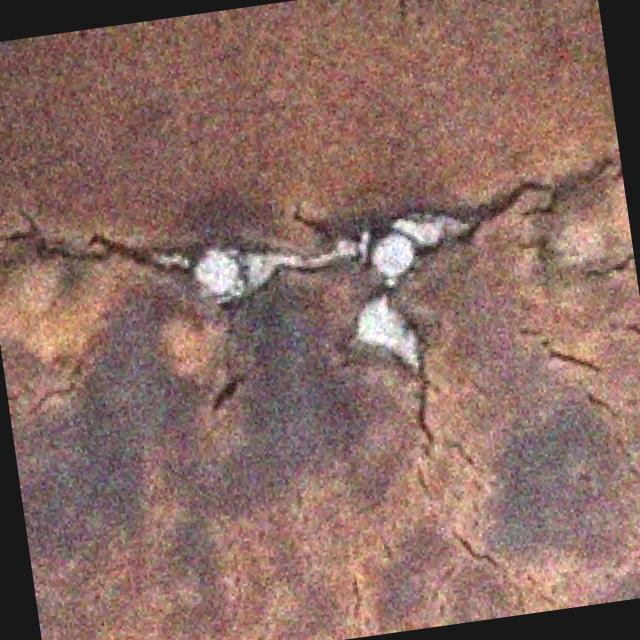crack: (28, 224, 174, 302), (397, 364, 452, 448), (466, 188, 540, 245), (528, 342, 587, 388)
